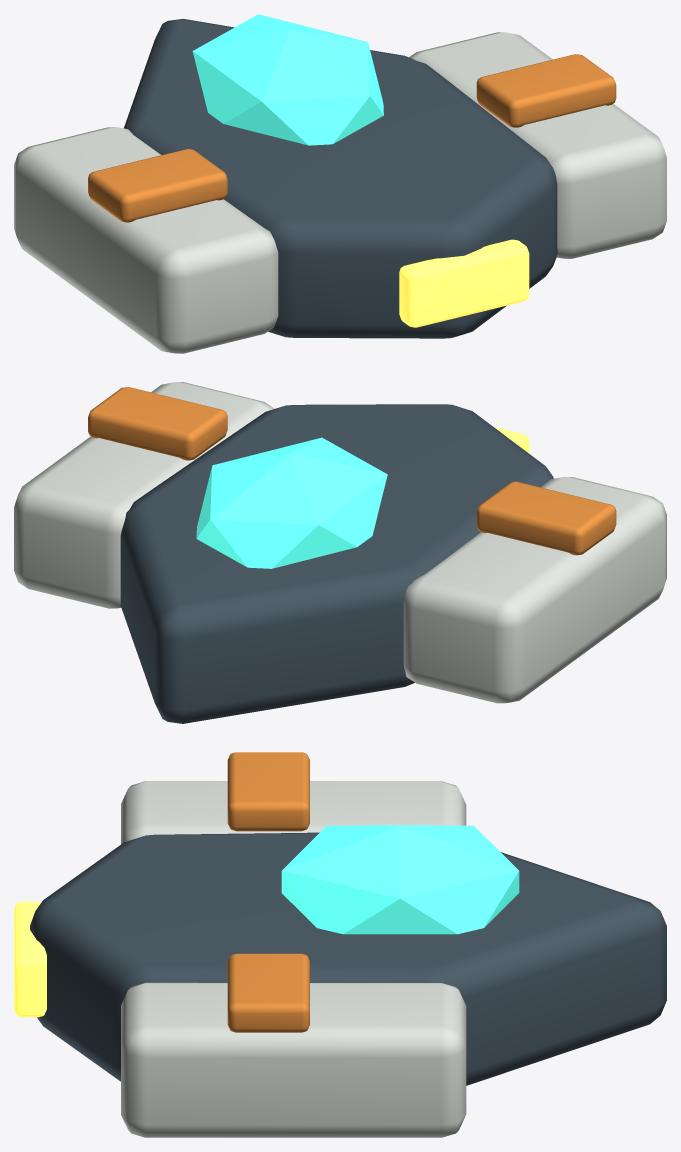
Rendered from salvage_wing.glb.
The picture shows the model from 3 angles, top to bottom: view 1: azimuth 30°, elevation 25°; view 2: azimuth 150°, elevation 25°; view 3: azimuth 270°, elevation 25°; orthographic projection. The views are drawn at different scales.
Visible parts, largest first — view 1: Drone chassis, Drone outrigger, Drone outrigger.001, Drone optic, Drone thruster, Drone orange marking.001, Drone orange marking; view 2: Drone chassis, Drone outrigger, Drone outrigger.001, Drone optic, Drone orange marking, Drone orange marking.001; view 3: Drone chassis, Drone outrigger.001, Drone optic, Drone outrigger, Drone orange marking.001, Drone orange marking, Drone thruster.
Boxes of the visible parts, x1,y1,x2,y2 form: Drone chassis: (124,19,557,338); Drone outrigger: (14,127,278,353); Drone outrigger.001: (409,32,666,258); Drone optic: (192,14,383,145); Drone thruster: (399,239,529,327); Drone orange marking.001: (476,54,616,127); Drone orange marking: (88,149,227,222); Drone chassis: (120,404,553,723); Drone outrigger: (403,476,666,703); Drone outrigger.001: (14,382,274,608); Drone optic: (196,437,387,568); Drone orange marking: (476,481,616,555); Drone orange marking.001: (88,387,227,460); Drone chassis: (30,832,666,1085); Drone outrigger.001: (121,982,466,1137); Drone optic: (281,825,519,934); Drone outrigger: (121,781,466,844); Drone orange marking.001: (227,953,309,1032); Drone orange marking: (227,752,309,831); Drone thruster: (14,901,46,1017).
Bounding box in the file's own units: 0.76 × 0.27 × 0.7942.
